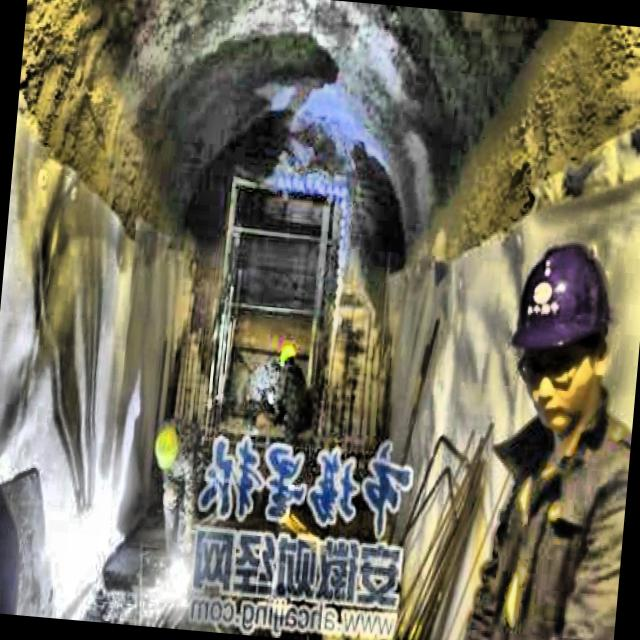helmet: (498, 221, 625, 438), (150, 428, 184, 474), (278, 343, 296, 371)
